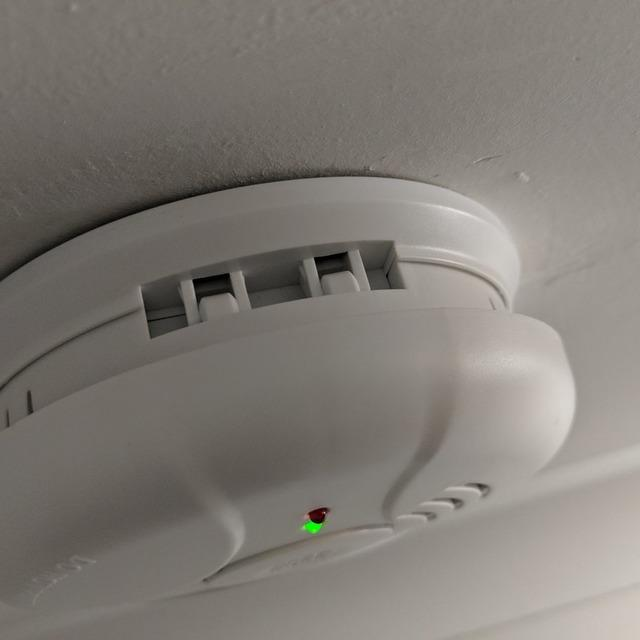Smoke-Detector: (6, 179, 570, 601)
